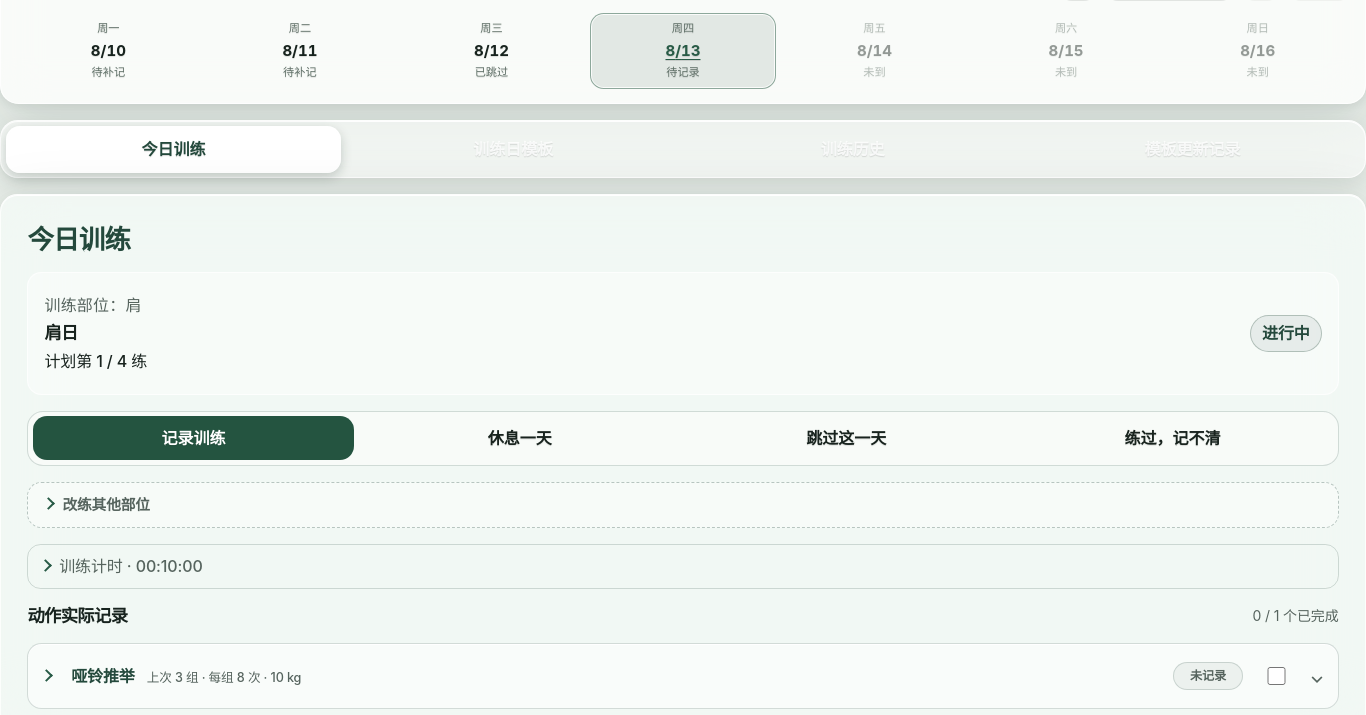
Test: ManualExerciseWorkspace › records today's rest without opening a future date or consuming the plan
What coordinates should you click on to do the following:
click the button "休息一天"
I would click on:
 (520, 438)
Its box is [360,416,680,460].
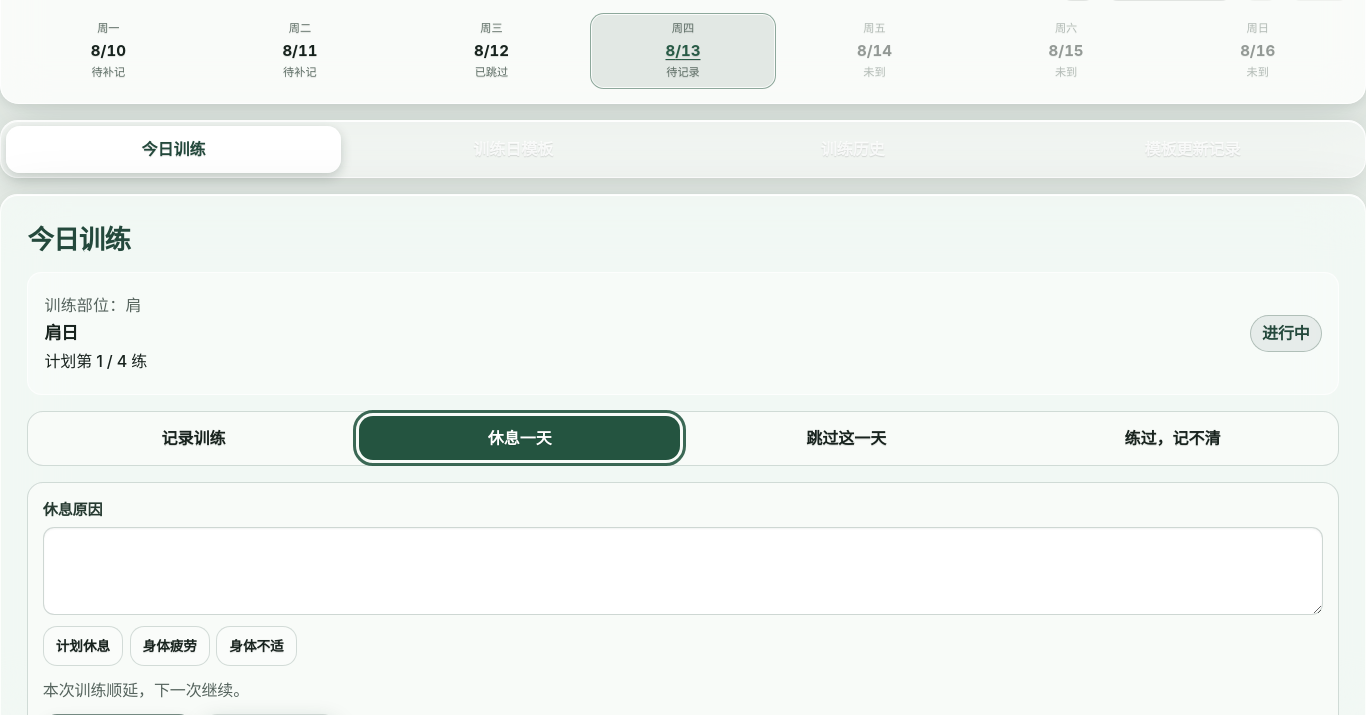
What coordinates should you click on to do the following:
click the button "身体疲劳"
I would click on:
 (170, 646)
Its box is [130,626,210,666].
(page scrolled)
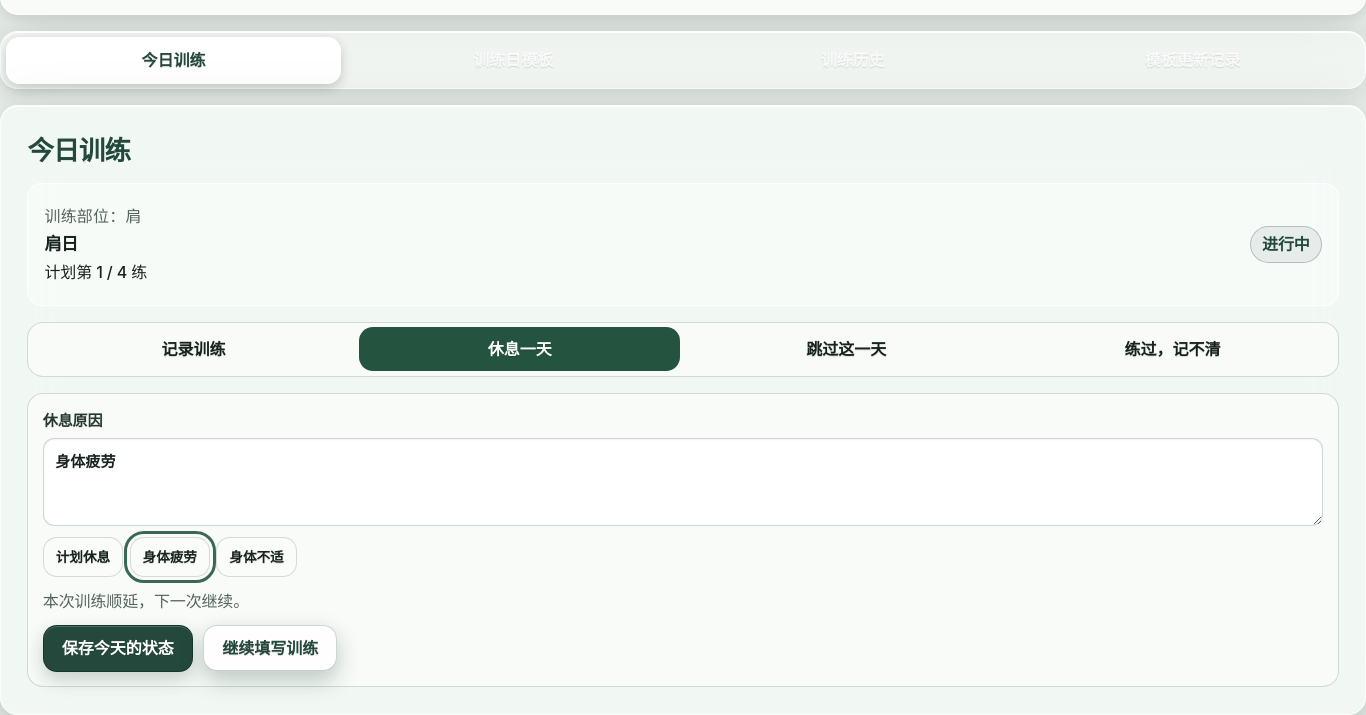
What coordinates should you click on to do the following:
click the button "保存今天的状态"
I would click on:
 (118, 648)
Its box is [43,625,193,672].
(page scrolled)
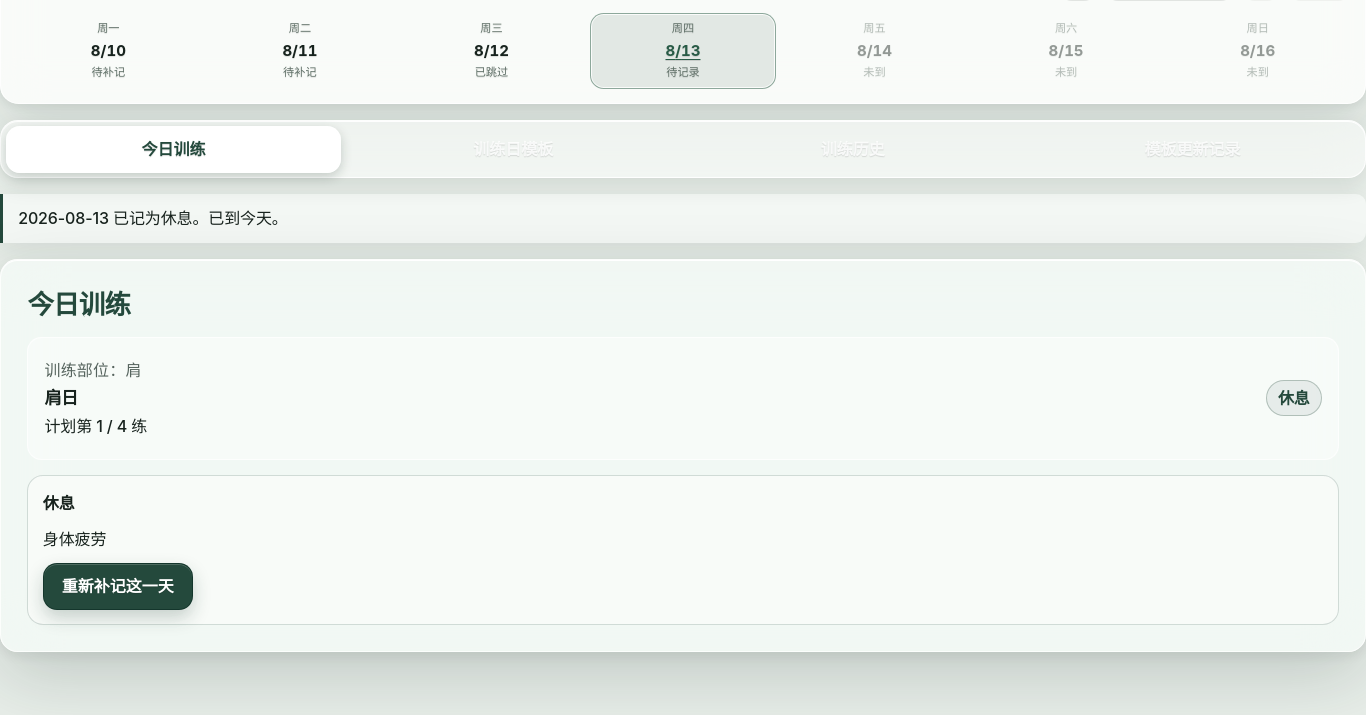
Expected: the text "2026-08-13 已记为休息。已到今天。" is shown, [0,194,1365,243]
